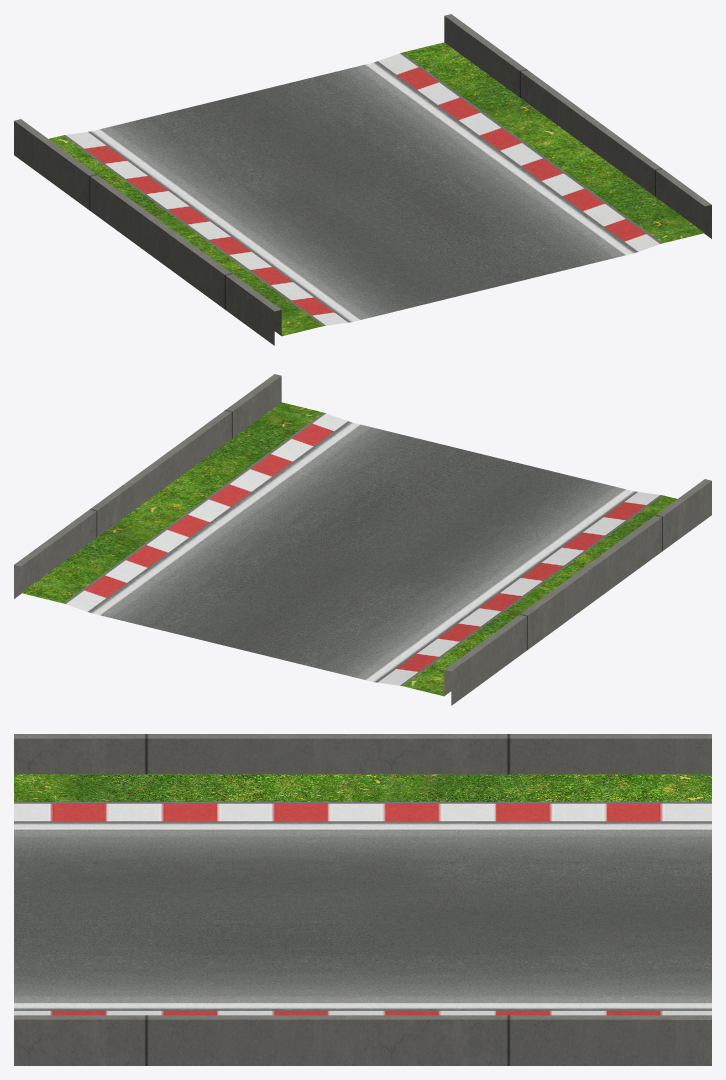
Rendered from str_mid.fbx.
3 views of the same model, one above another, from view 1: azimuth 30°, elevation 25°; view 2: azimuth 150°, elevation 25°; view 3: azimuth 270°, elevation 25° (orthographic). The views are drawn at different scales.
Visible parts, largest first — view 1: 1; view 2: 1; view 3: 1.
Boxes of the visible parts, x1=… form: 1: x1=14, y1=14, x2=711, y2=345; 1: x1=14, y1=374, x2=711, y2=705; 1: x1=14, y1=734, x2=711, y2=1065.
Bounding box in the file's own units: 177 × 13.34 × 183.
